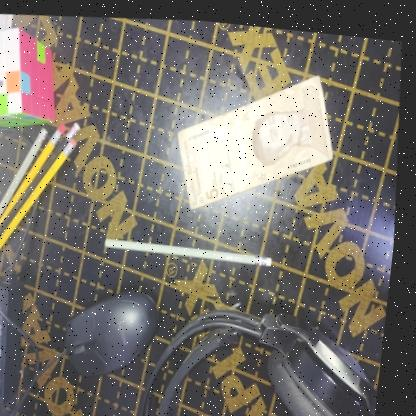five-front-vef: (168, 54, 347, 218)
